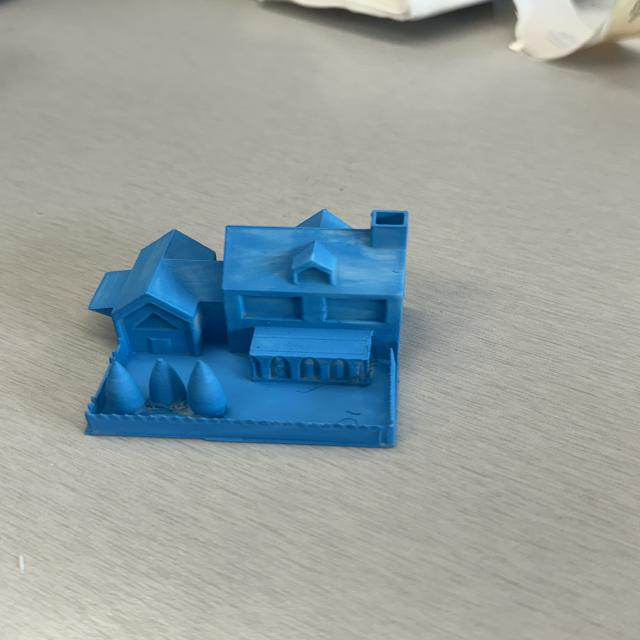house: (82, 206, 414, 452)
